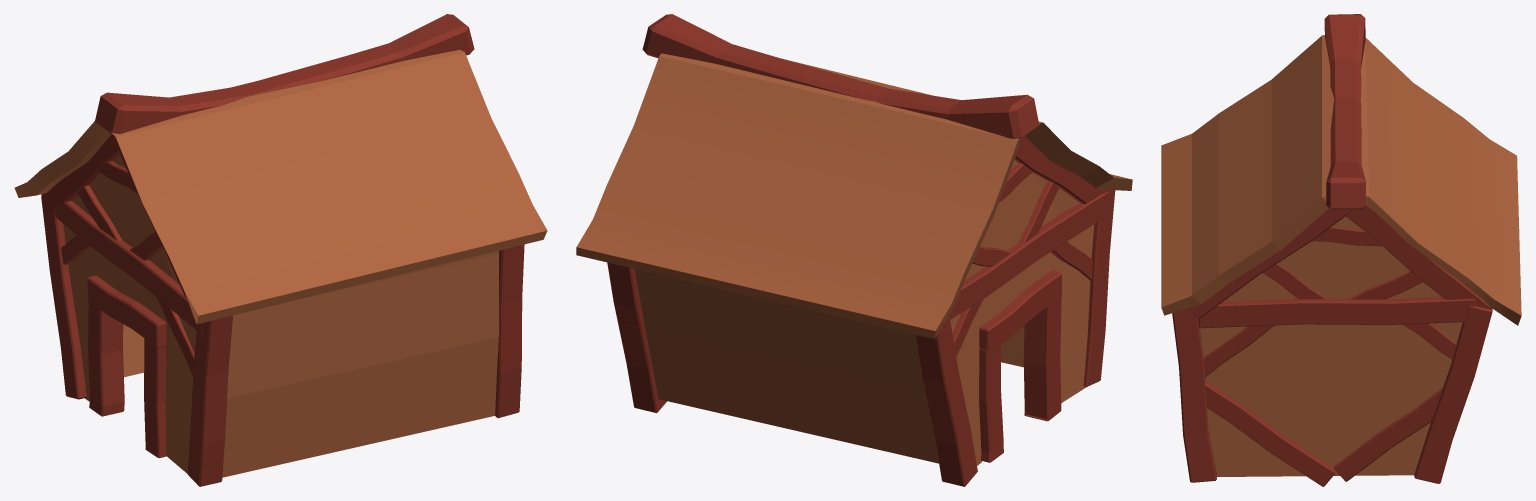
Rendered from Cottage.fbx.
3 renders of one model, left to right at view 1: azimuth 30°, elevation 25°; view 2: azimuth 150°, elevation 25°; view 3: azimuth 270°, elevation 25°, orthographic. The views are drawn at different scales.
Parts seen in each view (by area): view 1: Cube.007, Cube.031, Cube.027, Cube.004, Cube.014, Cube.001, Cube.017, Cube.013, Cube.018, Cube.020, Cube.019, Cube.029 (+5 smaller); view 2: Cube.029, Cube.030, Cube.027, Cube.004, Cube.013, Cube.017, Cube.020, Cube, Cube.014, Cube.007, Cube.019, Cube.018 (+5 smaller); view 3: Cube.028, Cube.007, Cube.029, Cube.026, Cube.004, Cube, Cube.001, Cube.006, Cube.002, Cube.005, Cube.003, Cube.008 (+4 smaller).
Boxes of the visible parts, bbox=[...] form: Cube.007: bbox=[110, 50, 547, 324]; Cube.031: bbox=[222, 250, 498, 477]; Cube.027: bbox=[63, 155, 196, 473]; Cube.004: bbox=[95, 14, 474, 136]; Cube.014: bbox=[187, 315, 232, 486]; Cube.001: bbox=[495, 244, 524, 418]; Cube.017: bbox=[54, 201, 202, 334]; Cube.013: bbox=[41, 196, 86, 399]; Cube.018: bbox=[88, 301, 124, 416]; Cube.020: bbox=[144, 330, 166, 458]; Cube.019: bbox=[87, 275, 166, 347]; Cube.029: bbox=[14, 82, 252, 197]; Cube.029: bbox=[576, 53, 1022, 338]; Cube.030: bbox=[634, 269, 938, 463]; Cube.027: bbox=[950, 160, 1094, 465]; Cube.004: bbox=[642, 14, 1039, 138]; Cube.013: bbox=[915, 315, 977, 486]; Cube.017: bbox=[949, 191, 1108, 319]; Cube.020: bbox=[1023, 293, 1061, 421]; Cube: bbox=[607, 262, 666, 413]; Cube.014: bbox=[1083, 189, 1115, 386]; Cube.007: bbox=[786, 59, 1132, 190]; Cube.019: bbox=[979, 270, 1061, 353]; Cube.018: bbox=[979, 345, 1003, 462]; Cube.028: bbox=[1200, 216, 1462, 476]; Cube.007: bbox=[1161, 35, 1333, 315]; Cube.029: bbox=[1360, 38, 1521, 325]; Cube.026: bbox=[1198, 296, 1475, 328]; Cube.004: bbox=[1324, 14, 1365, 209]; Cube: bbox=[1414, 306, 1492, 483]; Cube.001: bbox=[1172, 308, 1216, 482]; Cube.006: bbox=[1205, 381, 1335, 486]; Cube.002: bbox=[1345, 204, 1491, 309]; Cube.005: bbox=[1333, 388, 1442, 481]; Cube.003: bbox=[1189, 208, 1352, 318]; Cube.008: bbox=[1203, 325, 1273, 377].
Bounding box in the file's own units: 1936 × 1723 × 1733.
1 material, 1 textured.
